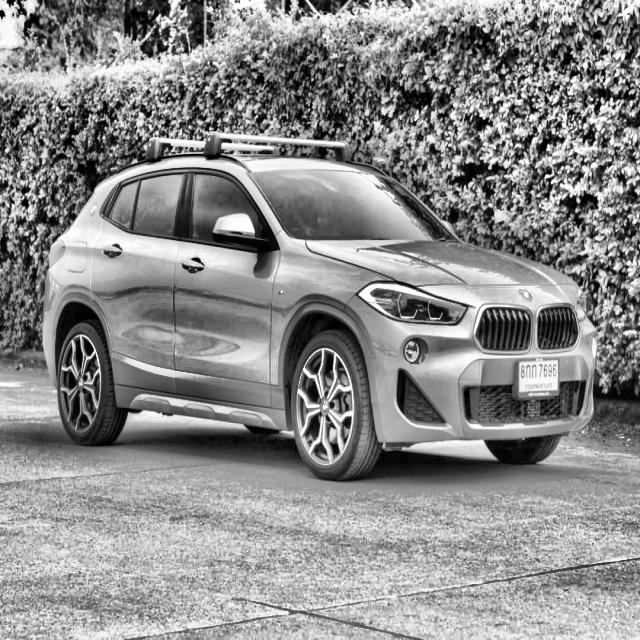license-plate: (511, 354, 566, 402)
